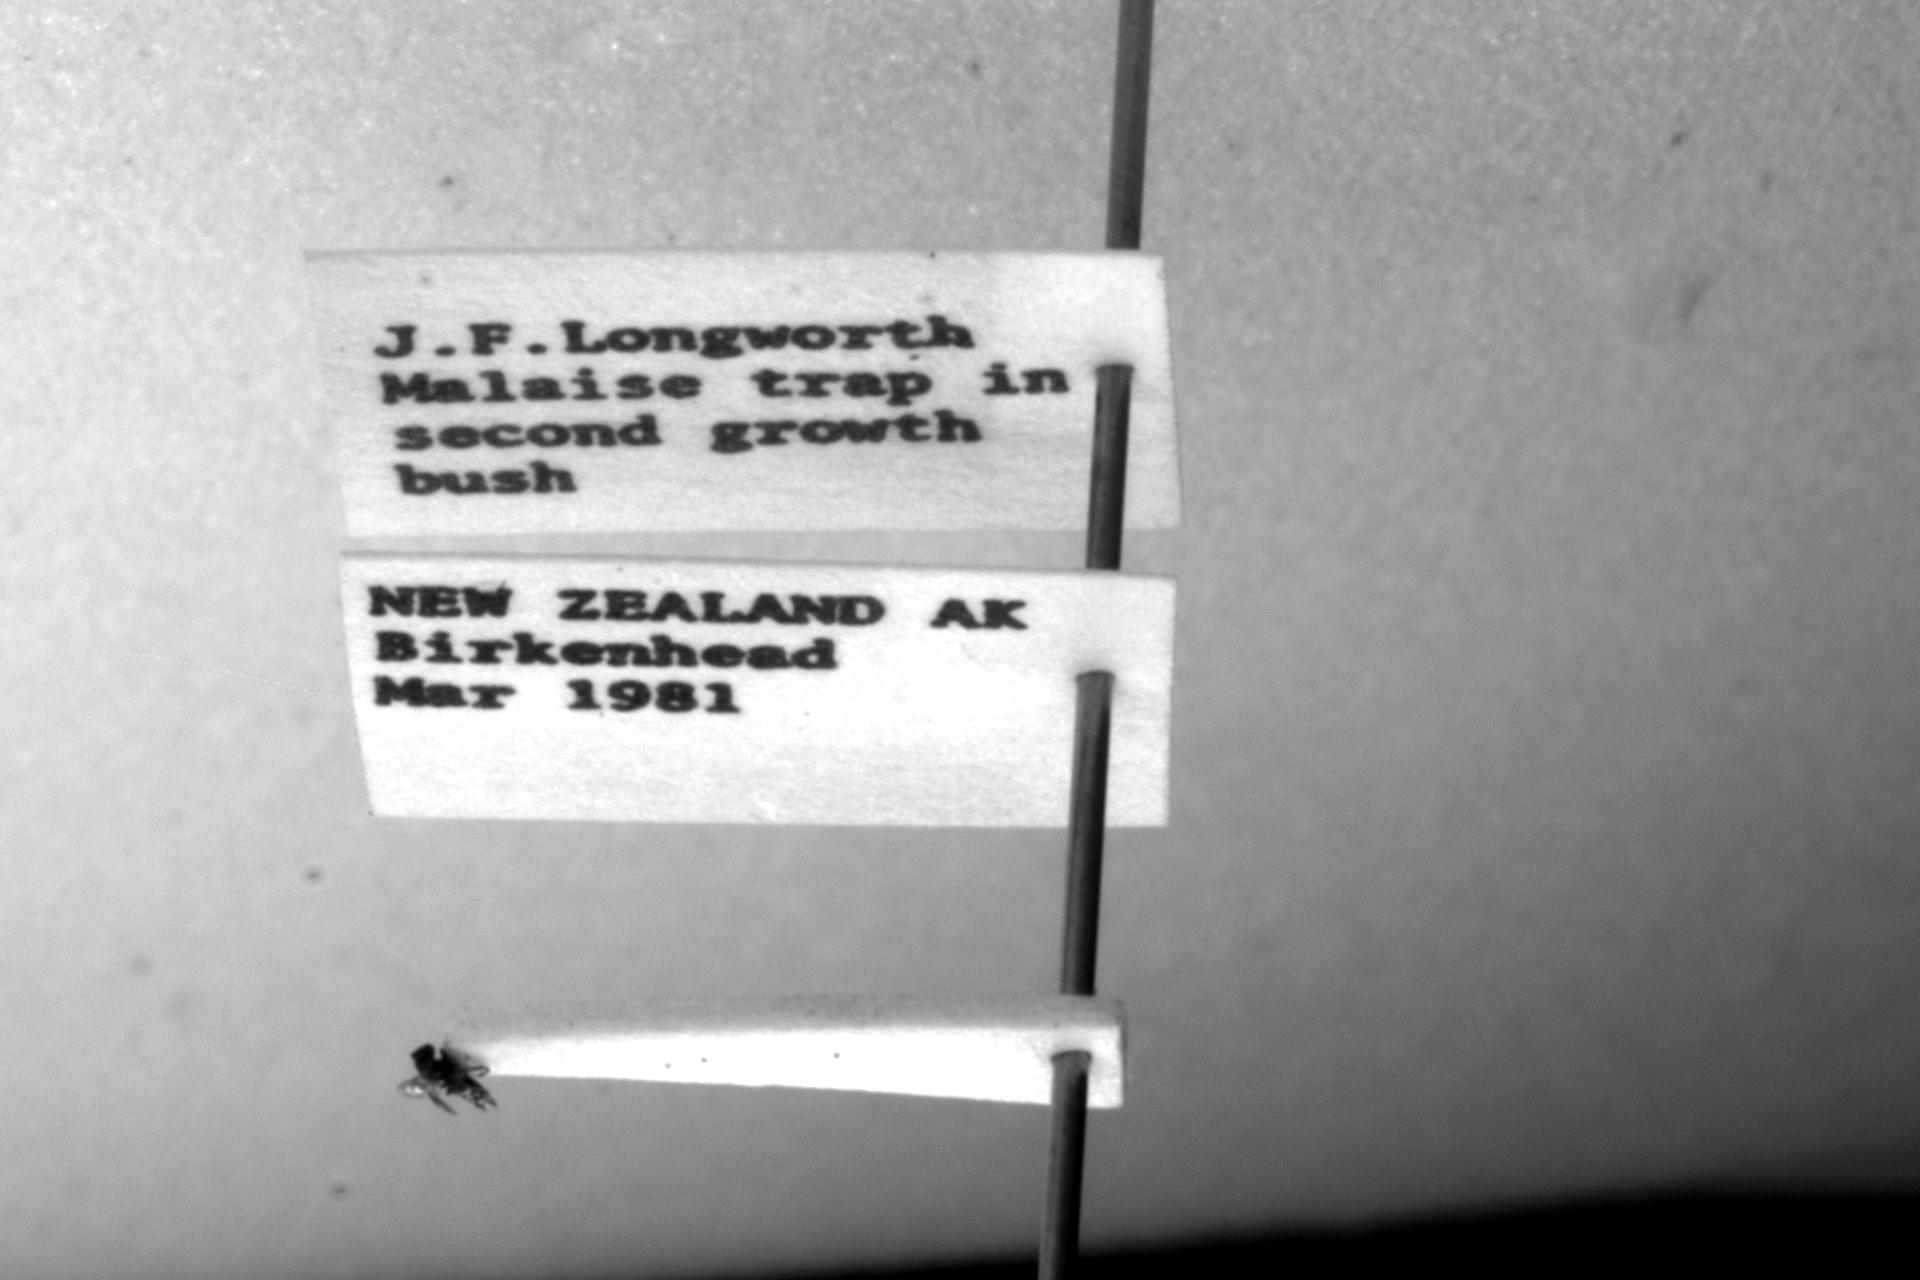typed_label: (308, 251, 1181, 536), (341, 555, 1174, 829)
